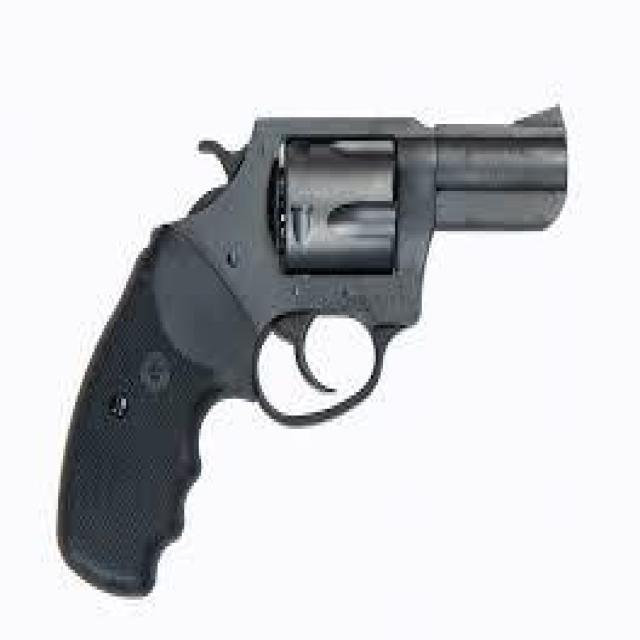Gun: (66, 66, 575, 608)
